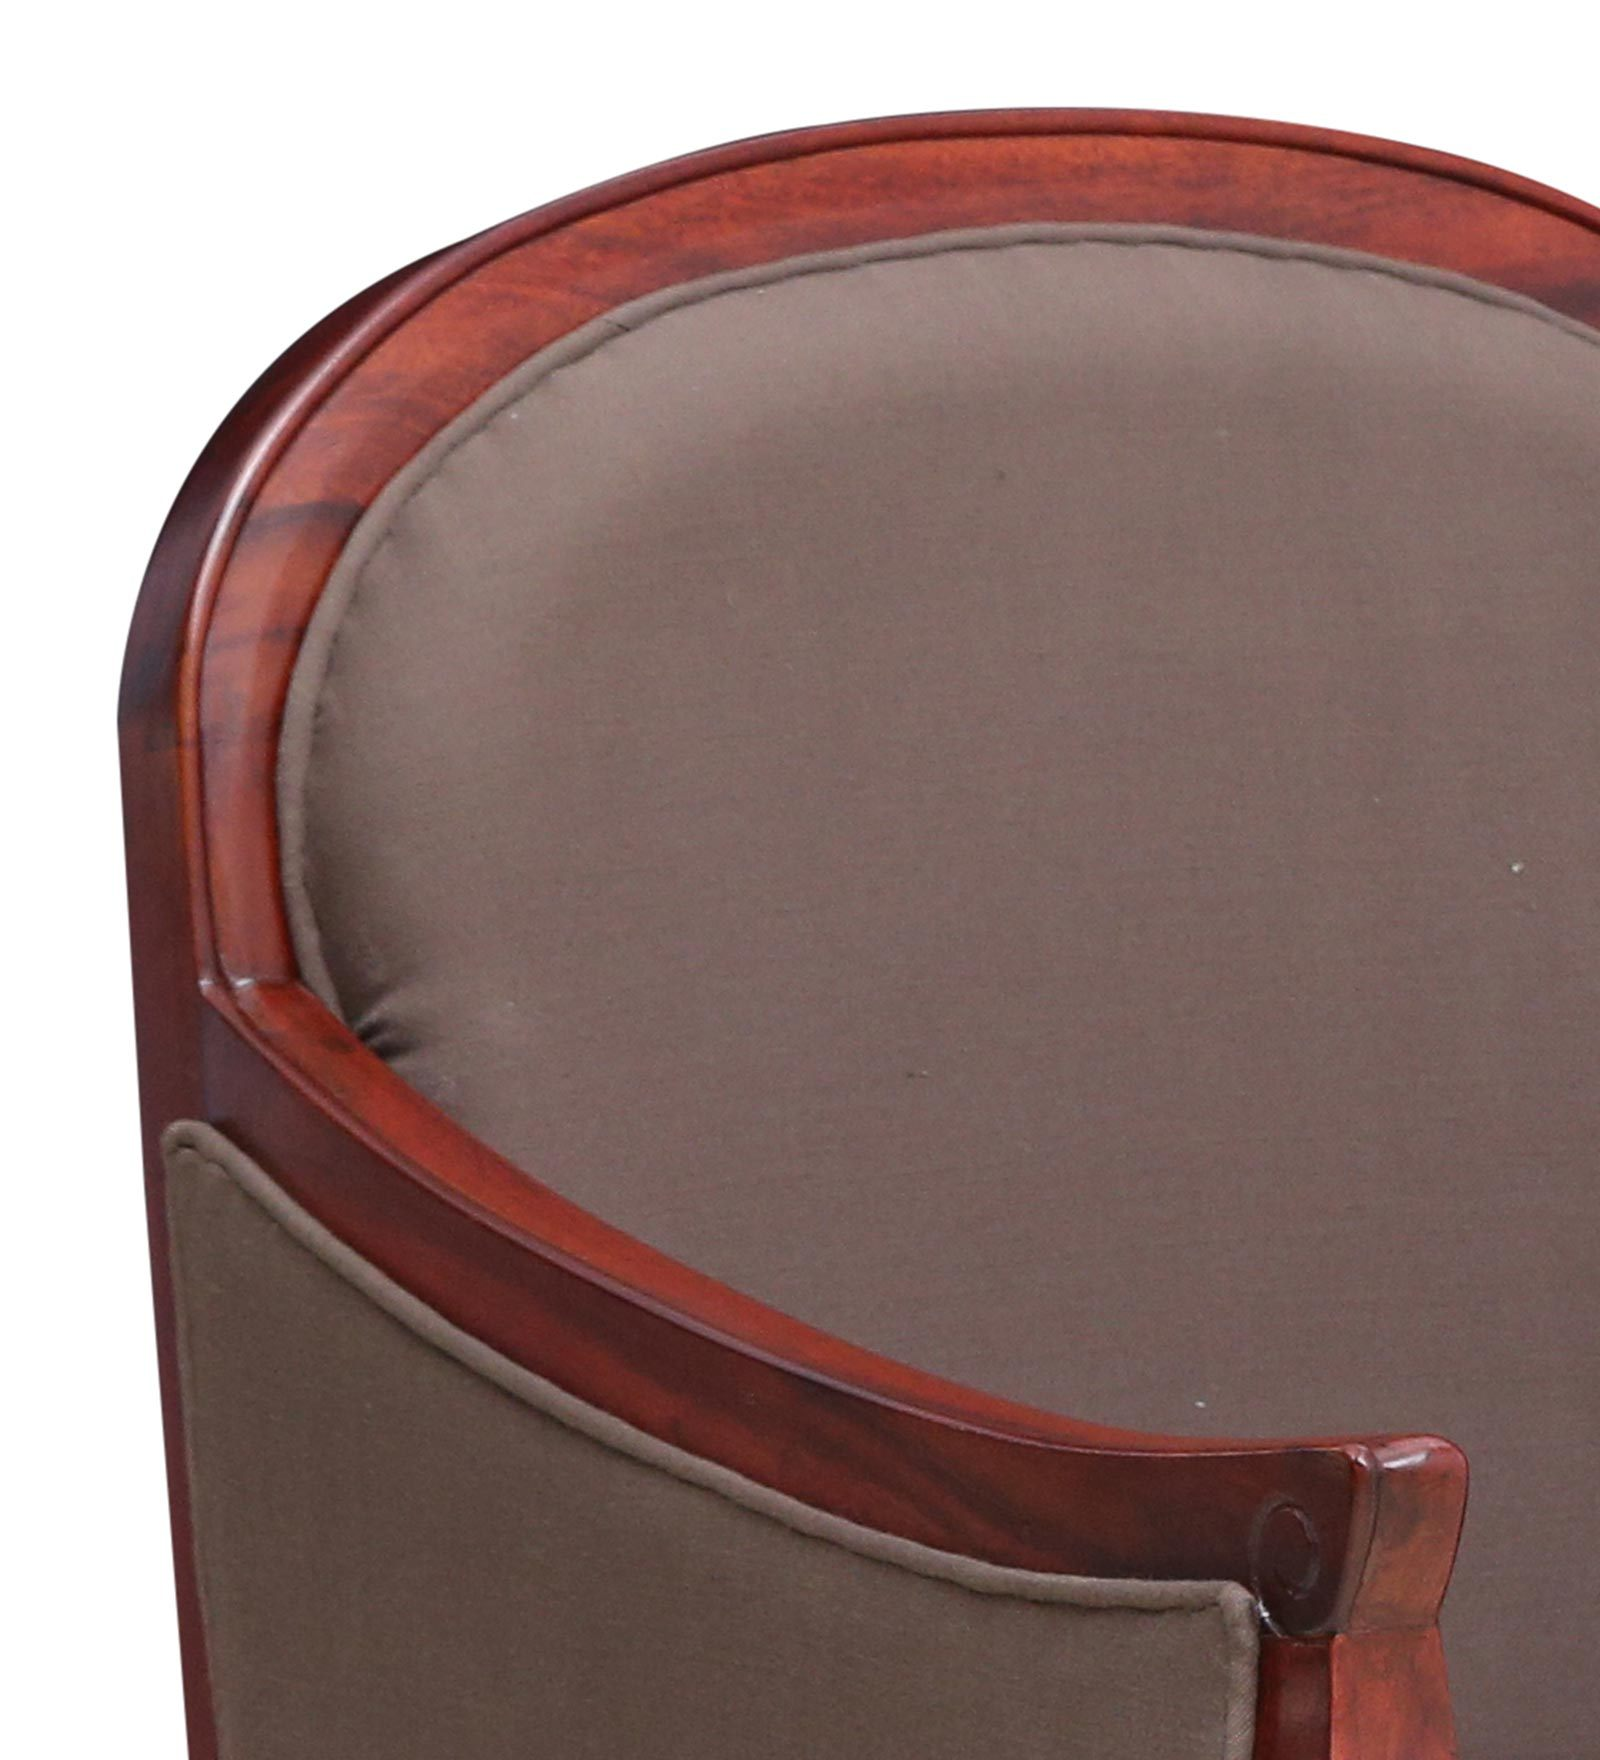Clifford Arm Chair in Honey Oak Finish by Amberville: (81, 71, 1600, 1749)
